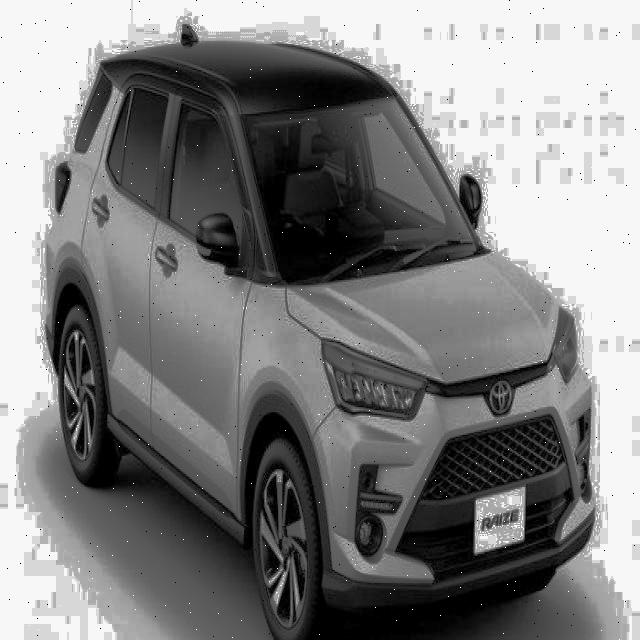Car: (37, 14, 597, 631)
